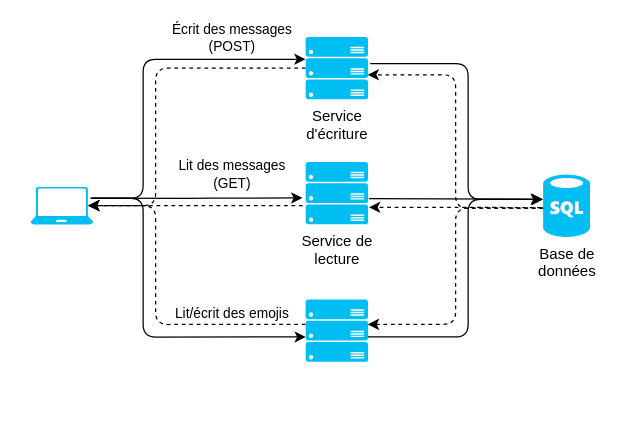
The diagram is 618 pixels wide and 429 high, and some of its shapes have lost their labels. Each missing label, with the centre of its shape:
Client HTTP: (61,205)
Service d'emojis: (336,330)
